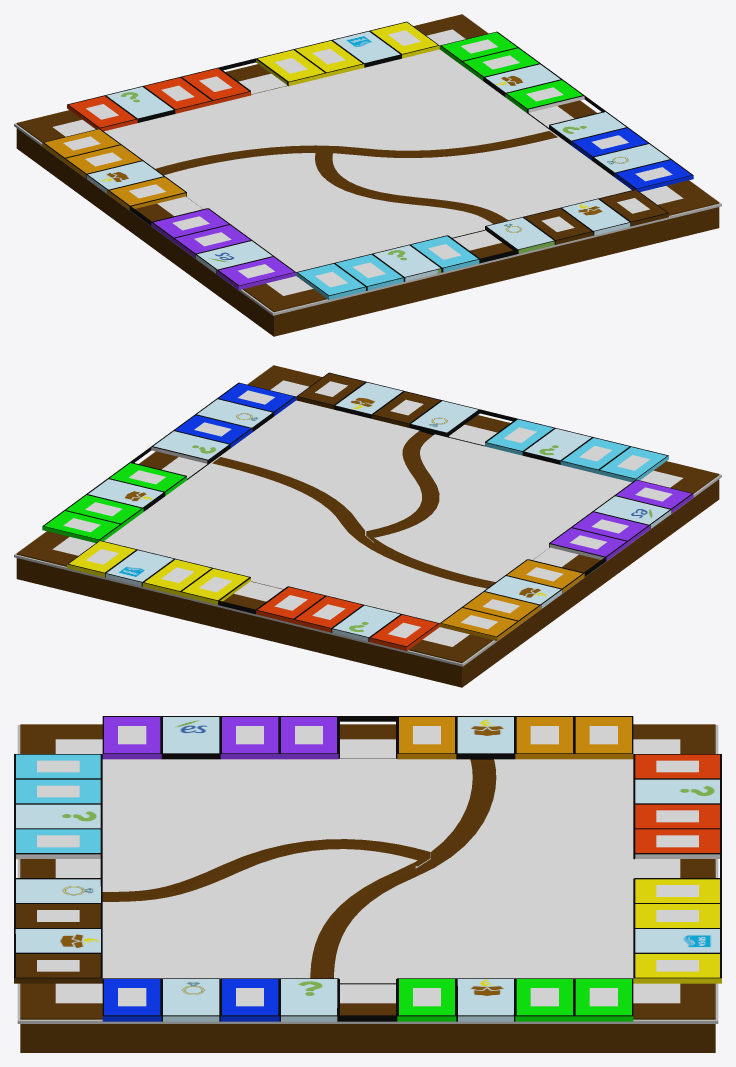
Rendered from collections.gltf.
The picture shows the model from 3 angles, top to bottom: view 1: azimuth 30°, elevation 25°; view 2: azimuth 150°, elevation 25°; view 3: azimuth 270°, elevation 25°; orthographic projection. The views are drawn at different scales.
Parts seen in each view (by area): view 1: socle, grille, bordure; view 2: socle, grille, bordure; view 3: socle, grille, bordure, Plane.006, Plane, Plane.001, Plane.002, Plane.003, Plane.004, Plane.005, Plane.007, Plane.008 (+1 smaller).
Boxes of the visible parts, x1,y1,x2,y2 form: socle: [16, 14, 719, 336]; grille: [42, 21, 693, 299]; bordure: [14, 14, 721, 315]; socle: [16, 365, 719, 687]; grille: [42, 372, 693, 650]; bordure: [14, 365, 721, 666]; socle: [20, 724, 715, 1052]; grille: [14, 716, 721, 1021]; bordure: [17, 725, 718, 1023]; Plane.006: [173, 979, 214, 997]; Plane: [57, 807, 98, 824]; Plane.001: [290, 980, 331, 997]; Plane.002: [675, 782, 716, 799]; Plane.003: [466, 979, 507, 996]; Plane.004: [466, 719, 507, 736]; Plane.005: [57, 932, 98, 949]; Plane.007: [57, 882, 98, 899]; Plane.008: [172, 719, 213, 736].
Size of the model in its own units: 4.07 by 0.2512 by 4.05.
